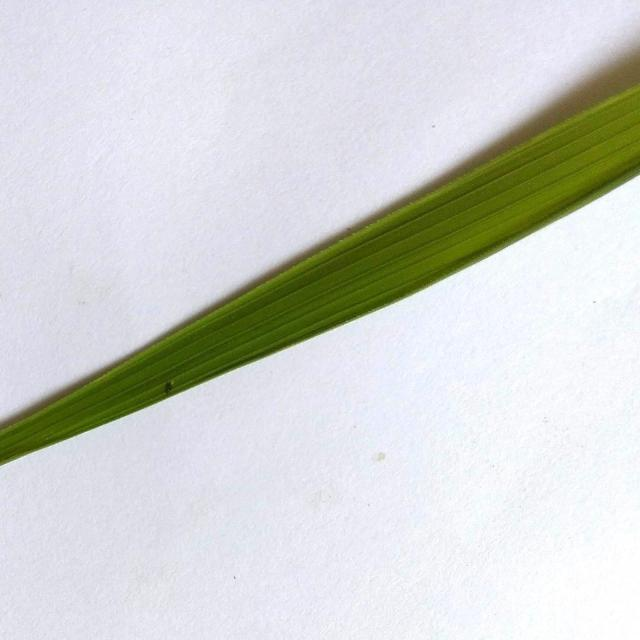healthy: (0, 75, 640, 468)
